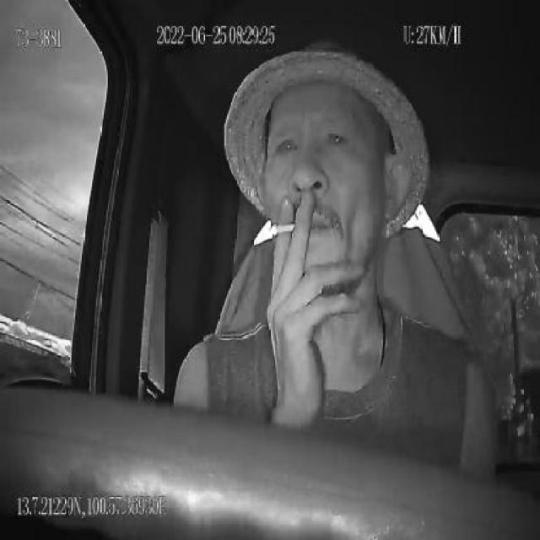smoking: (270, 220, 296, 237)
